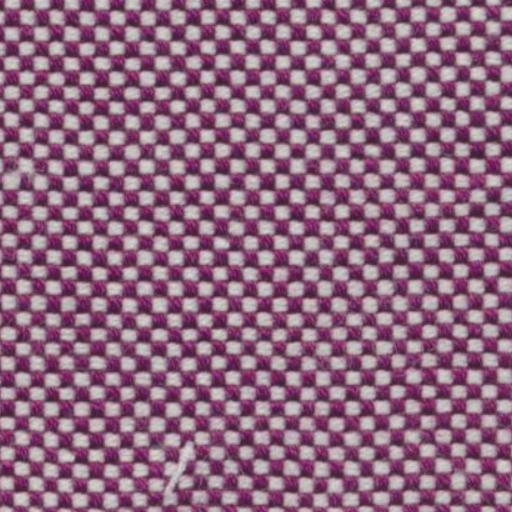DuanSha: (157, 430, 204, 502)
